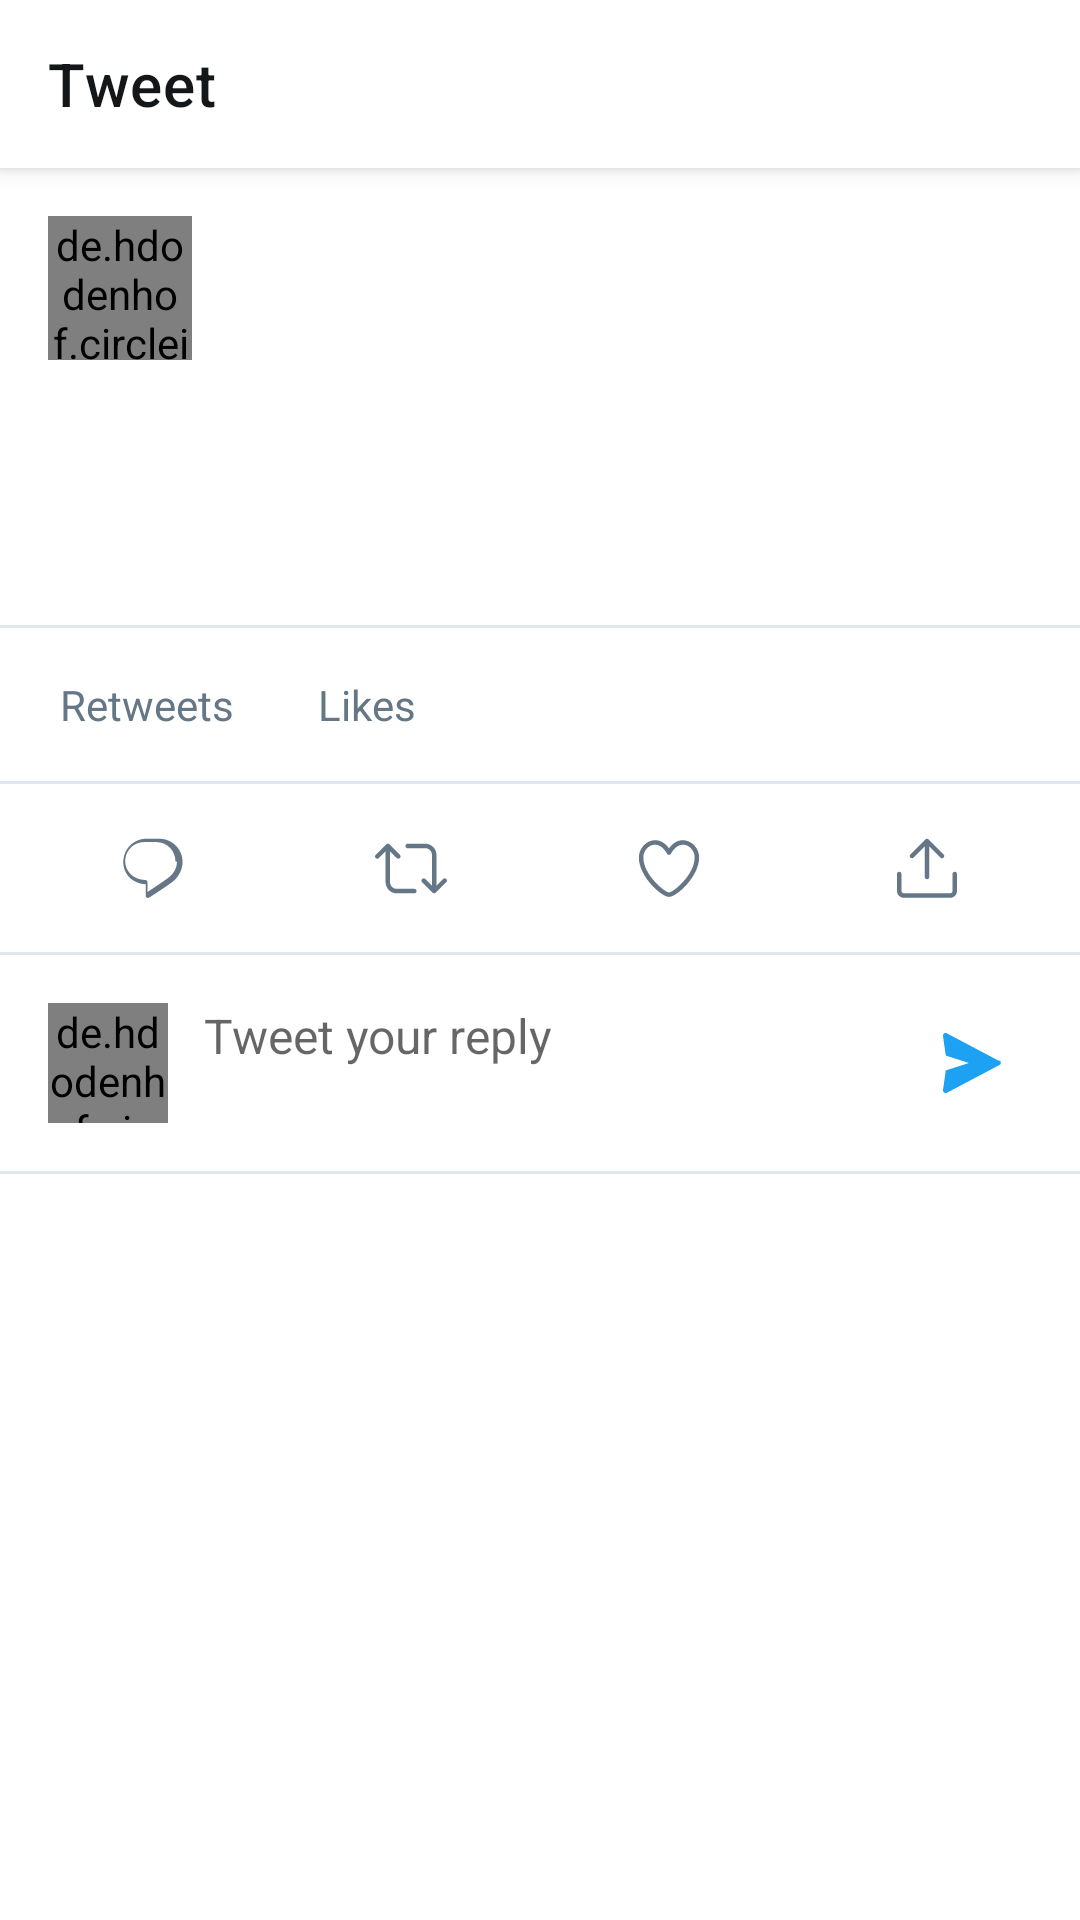

Icons on this 1080px x 1920px Android screen, each with the point to tap as point (x, y):
send: point (972, 1063)
share: point (927, 868)
